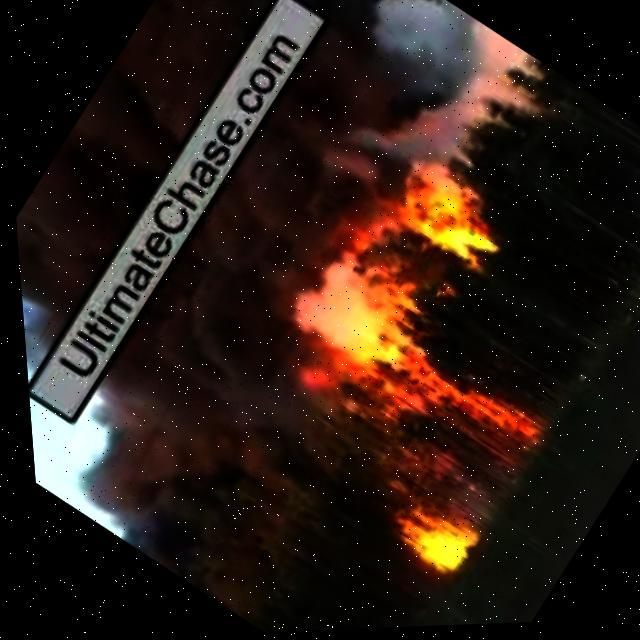Fire: (360, 313, 550, 469), (363, 142, 525, 293), (365, 480, 482, 589)
Smoke: (0, 0, 528, 569), (0, 0, 348, 374)
